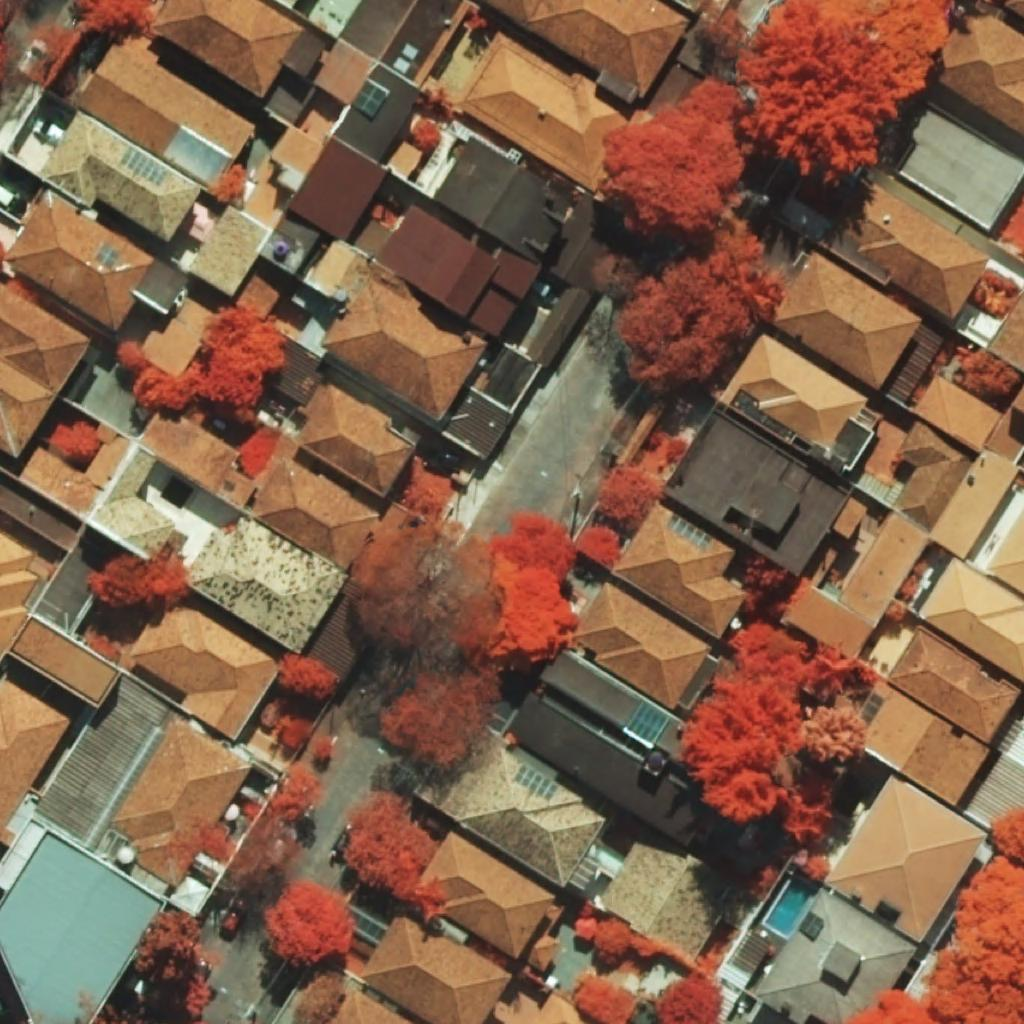pool: (764, 877, 818, 937), (160, 477, 194, 510)
